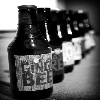beer: (7, 3, 58, 100)
